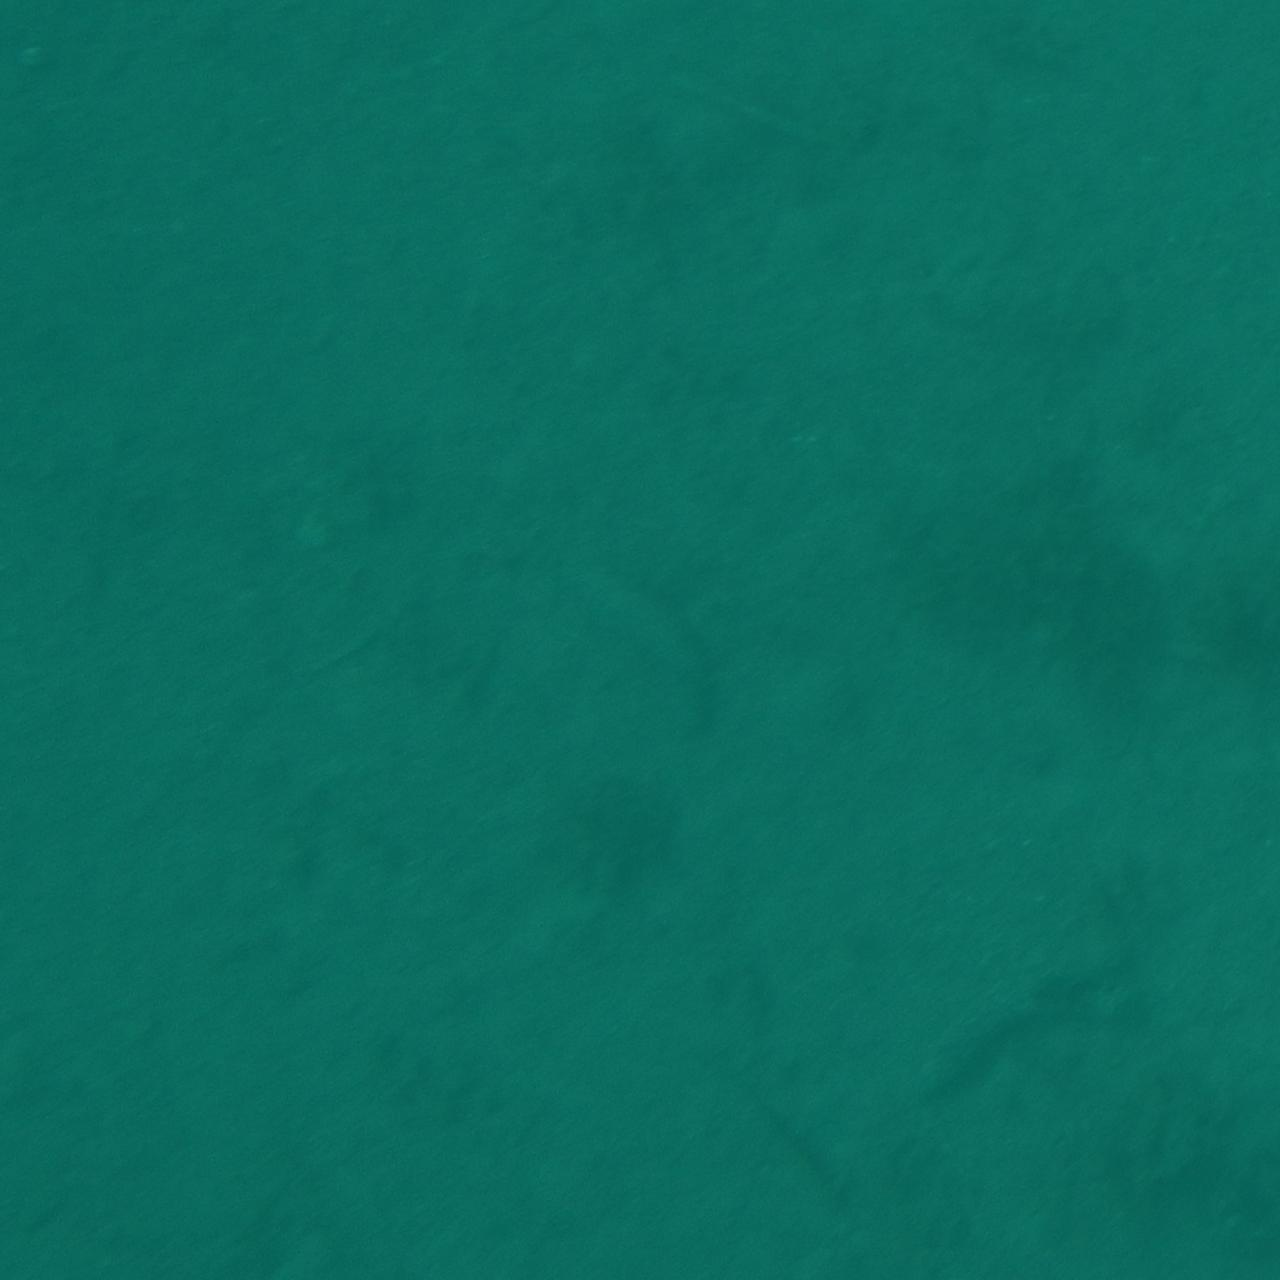Holothuria tubulosa: (541, 535, 739, 745)
